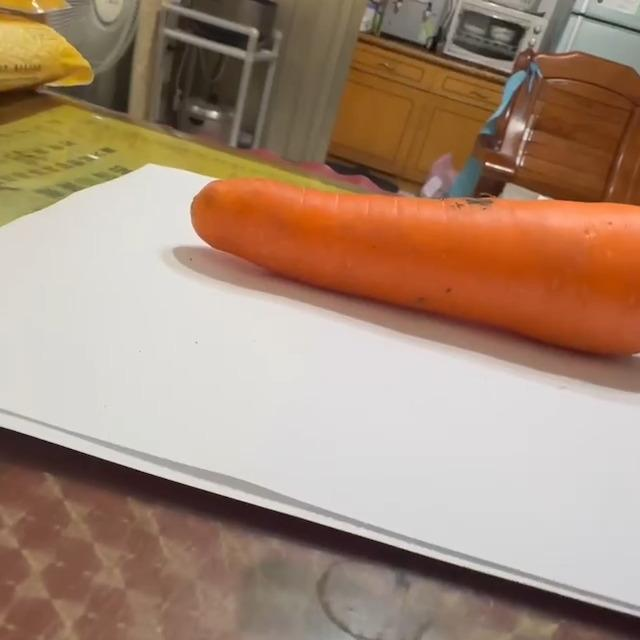carrot: (192, 177, 640, 358)
